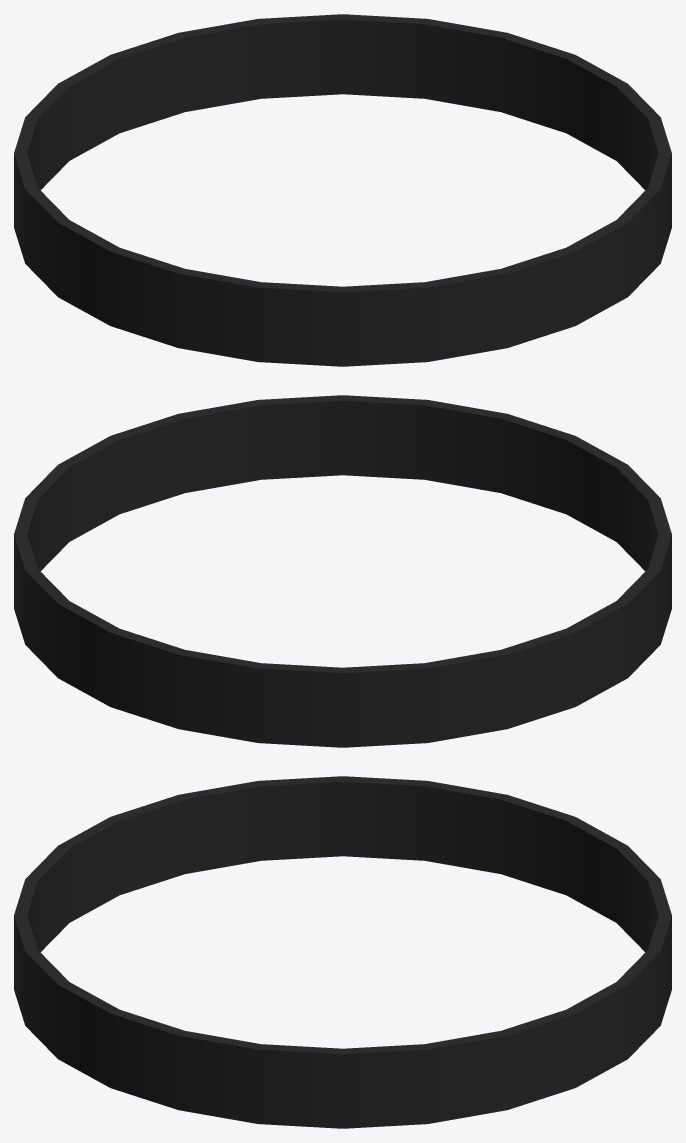
File: Tantares_Heatshield_1_Fairing.obj
3 renders of one model, top to bottom at view 1: azimuth 30°, elevation 25°; view 2: azimuth 150°, elevation 25°; view 3: azimuth 270°, elevation 25°, orthographic.
Visible parts, largest first — view 1: Tantares_Heatshield_1_Fairing; view 2: Tantares_Heatshield_1_Fairing; view 3: Tantares_Heatshield_1_Fairing.
Boxes of the visible parts, left/top/right/bottom form: Tantares_Heatshield_1_Fairing: left=14, top=14, right=671, bottom=366; Tantares_Heatshield_1_Fairing: left=14, top=395, right=671, bottom=747; Tantares_Heatshield_1_Fairing: left=14, top=776, right=671, bottom=1128.
Bounding box in the file's own units: 1.25 × 0.1562 × 1.25.
